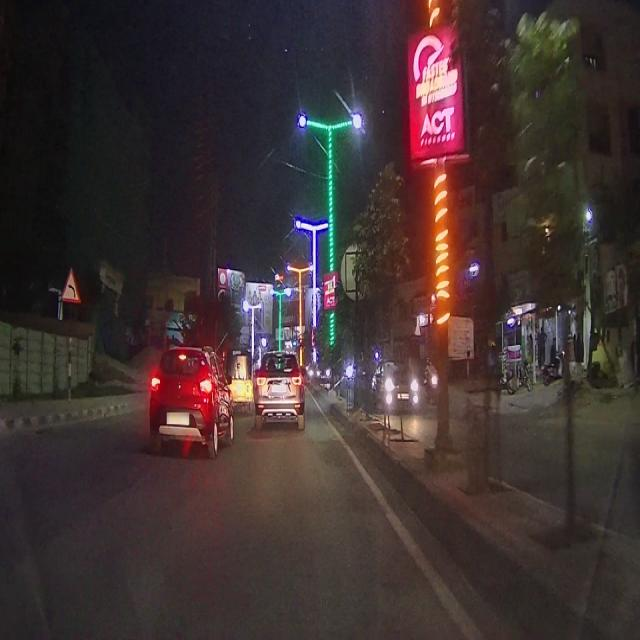left-hand-curve: (62, 266, 79, 300)
